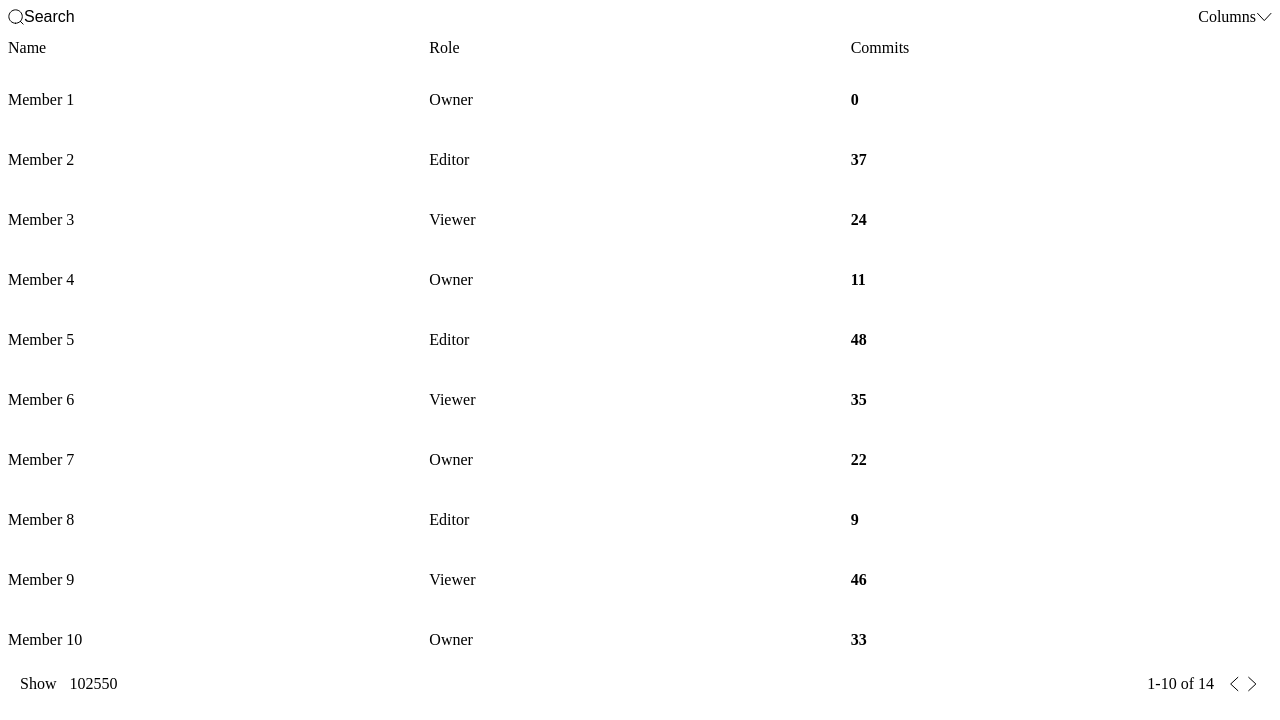
DataTable › sorts when a header is pressed
Click the button "Commits": (887, 48) [851, 39, 923, 57]
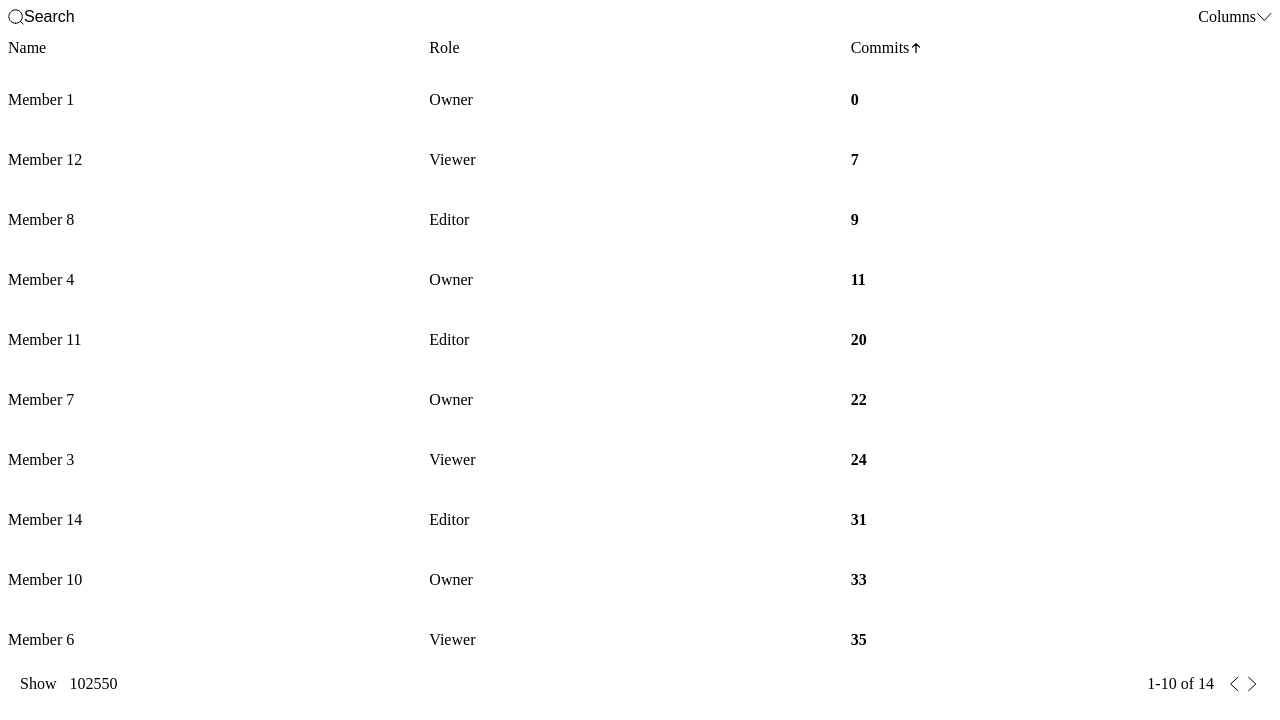
expect the text "Member 1" is shown: met, box [8, 91, 74, 108]
expect the column heading "Commits" has attribute aria-sort="ascending": met
Click the button "Commits": (887, 48) [851, 39, 923, 57]
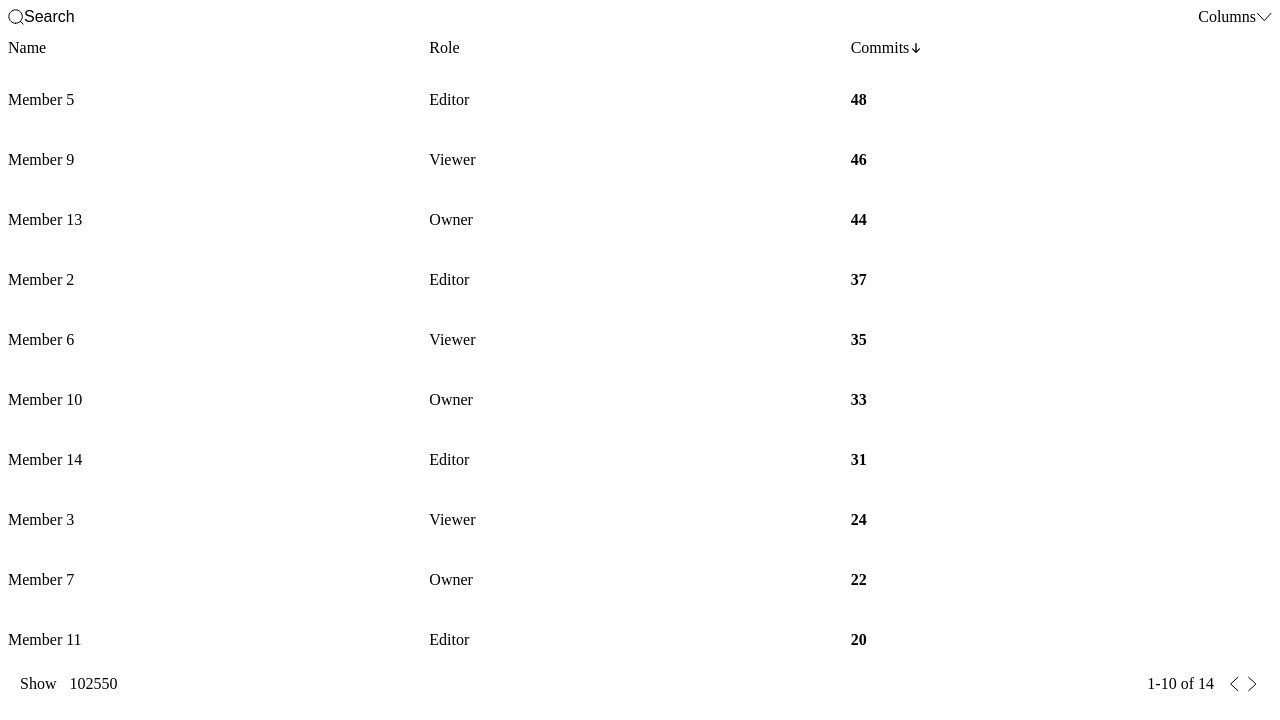
expect the text "Member 5" is shown: met, box [8, 91, 74, 108]
